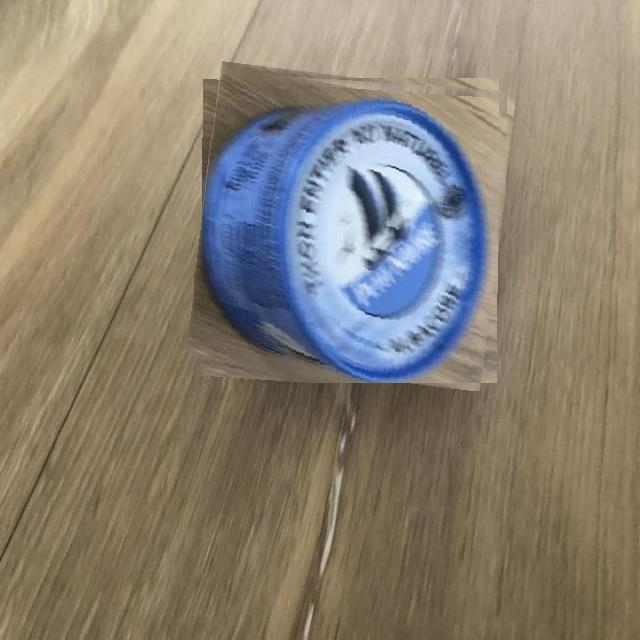recyclable: (194, 70, 507, 383)
